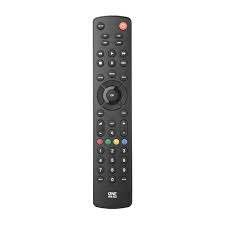remote control: (91, 14, 135, 211)
